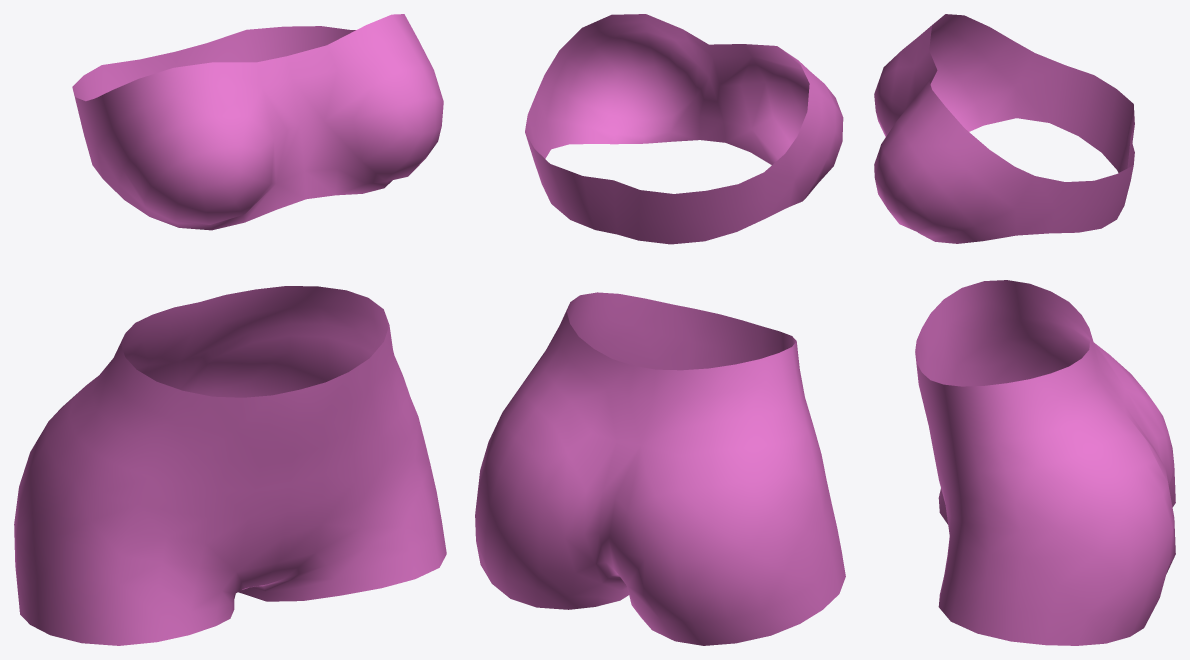
The model's file is TwoPieceSwimShorts.dae.
3 renders of one model, left to right at view 1: azimuth 30°, elevation 25°; view 2: azimuth 150°, elevation 25°; view 3: azimuth 270°, elevation 25°, orthographic. The views are drawn at different scales.
Parts seen in each view (by area): view 1: TwoPieceSwimShorts; view 2: TwoPieceSwimShorts; view 3: TwoPieceSwimShorts.
Part boxes in pixels (left/top/right/bottom): TwoPieceSwimShorts: left=14, top=14, right=446, bottom=645; TwoPieceSwimShorts: left=475, top=14, right=845, bottom=645; TwoPieceSwimShorts: left=874, top=14, right=1175, bottom=645.
Bounding box in the file's own units: 0.3803 × 0.2935 × 0.5625.
